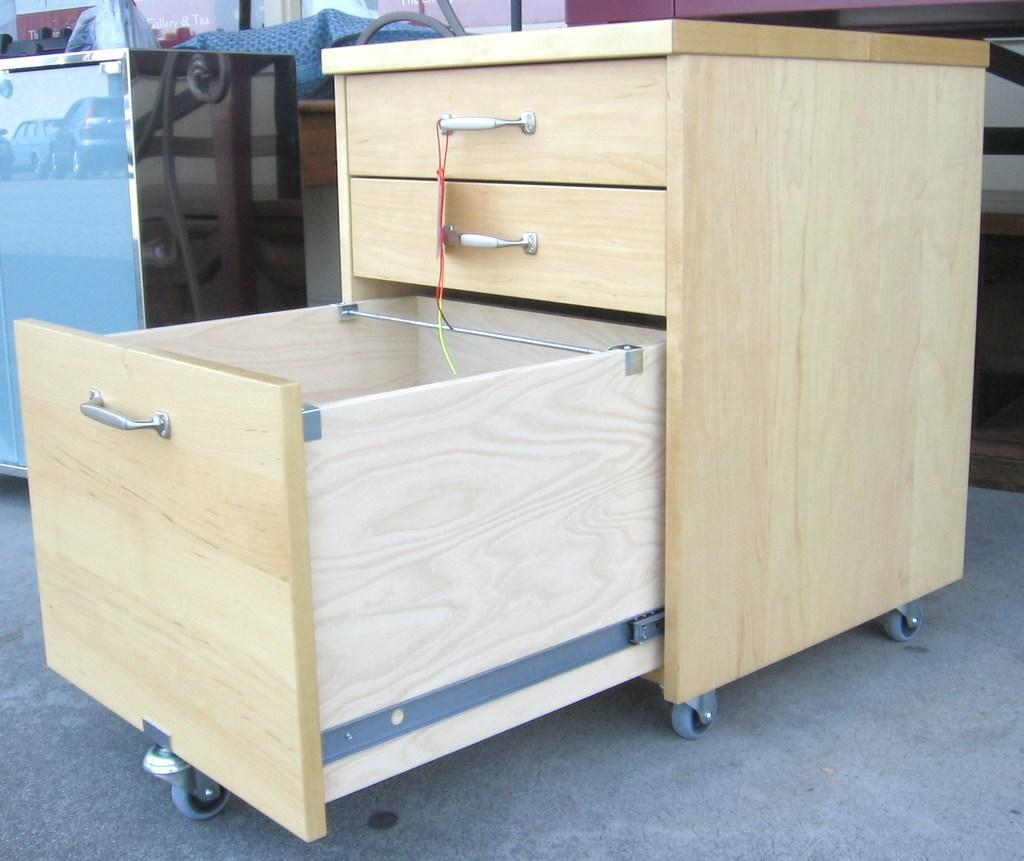cabinet_door: (44, 354, 290, 722), (350, 82, 668, 186), (366, 187, 662, 298)
handle: (428, 219, 542, 264), (82, 400, 164, 449), (432, 110, 542, 146)
